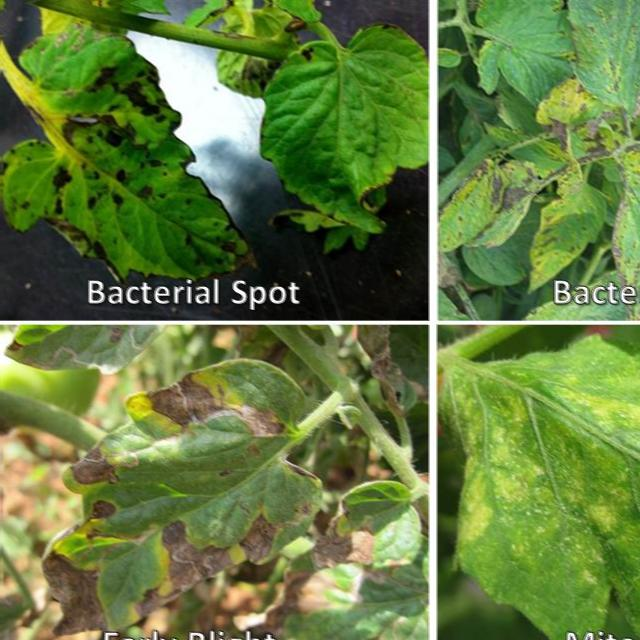Tomato leaf bacterial spot: (9, 350, 338, 628), (0, 21, 259, 299), (249, 9, 428, 273), (453, 0, 597, 105), (524, 142, 607, 309), (544, 0, 640, 131), (448, 154, 543, 267), (601, 134, 640, 315)
